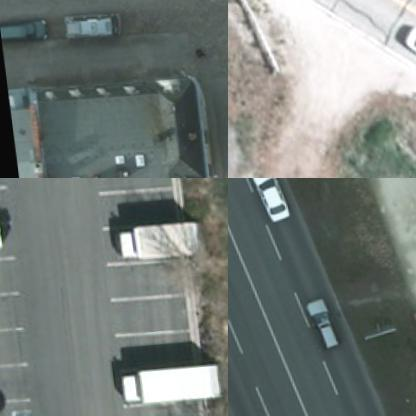car: (302, 293, 337, 349), (244, 178, 287, 223), (0, 11, 47, 45), (400, 15, 415, 78)
truck: (114, 360, 220, 406), (112, 216, 200, 258)
van: (59, 6, 114, 38)
